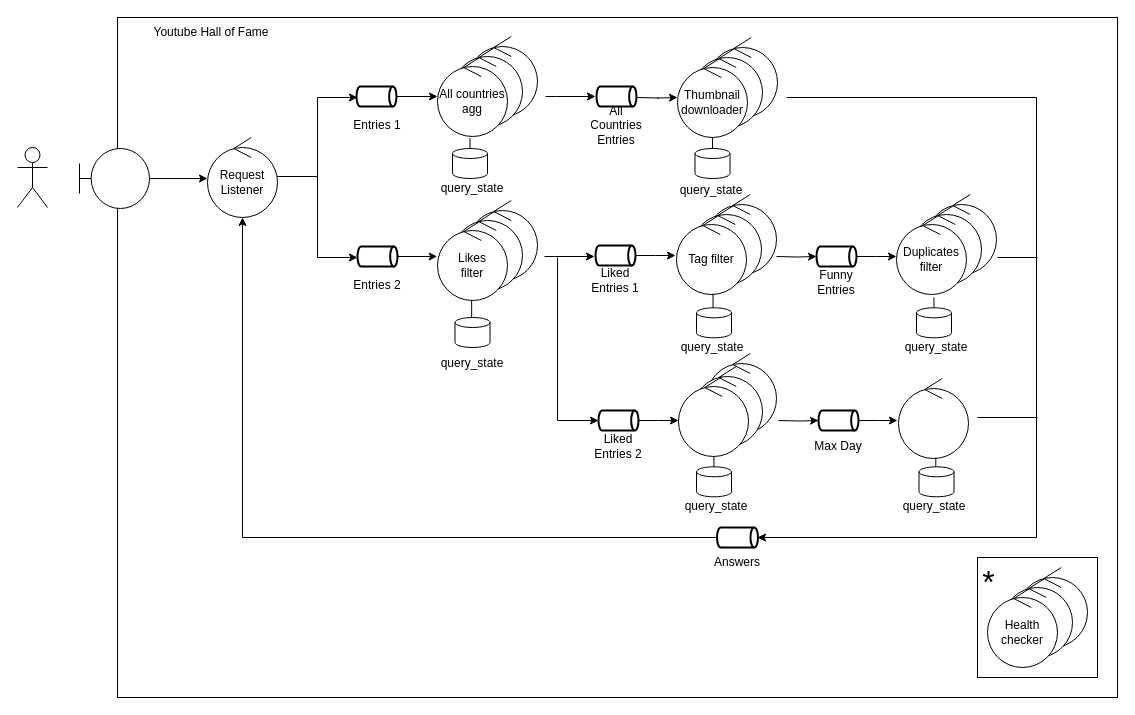
Some shapes in this 1135 by 715 pixel diagram are drawn without their labels. Each missing label, with the centre of its shape:
"Client" belongs at point (32, 177).
"Max day agg" belongs at point (933, 418).
"Max day filter" belongs at point (713, 416).
"Socket" belongs at point (114, 178).
